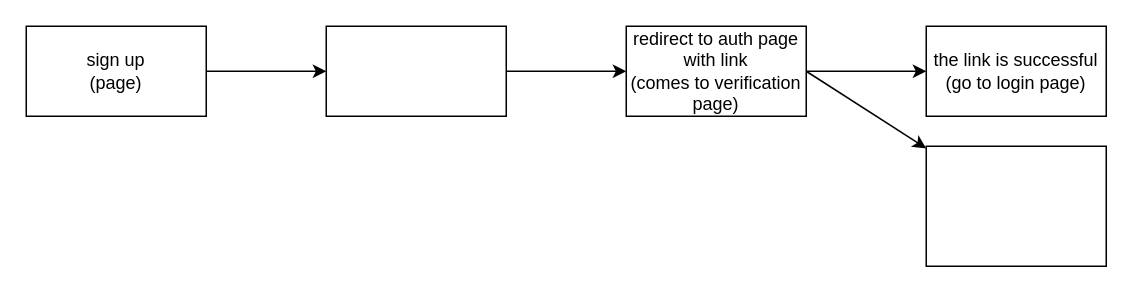
Some shapes in this 1133 by 293 pixel diagram are drawn without their labels. Here are the shapes that lost their labels. From the top down, the centre of each, then its label:
At [415,70]: "verify email link (new page)".
At [1015,205]: "the link is unsuccessful (show it failed) take them to login page".
